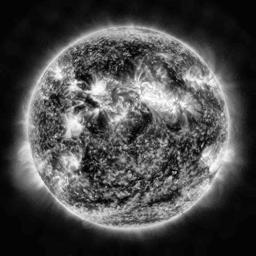solar flares: (136, 77, 185, 116), (62, 108, 84, 136), (93, 78, 116, 100), (165, 63, 185, 86), (199, 149, 219, 171), (62, 147, 80, 171), (187, 71, 212, 88), (111, 103, 128, 121), (70, 79, 84, 96), (53, 68, 66, 81), (132, 43, 139, 57)
sunspots: (164, 150, 182, 179), (96, 190, 133, 204), (71, 67, 95, 86), (148, 191, 179, 204), (132, 112, 145, 142), (94, 112, 110, 135), (85, 150, 98, 175), (120, 60, 137, 77), (51, 94, 68, 110), (194, 130, 208, 148), (101, 61, 116, 74), (132, 43, 139, 57), (87, 98, 94, 108)
